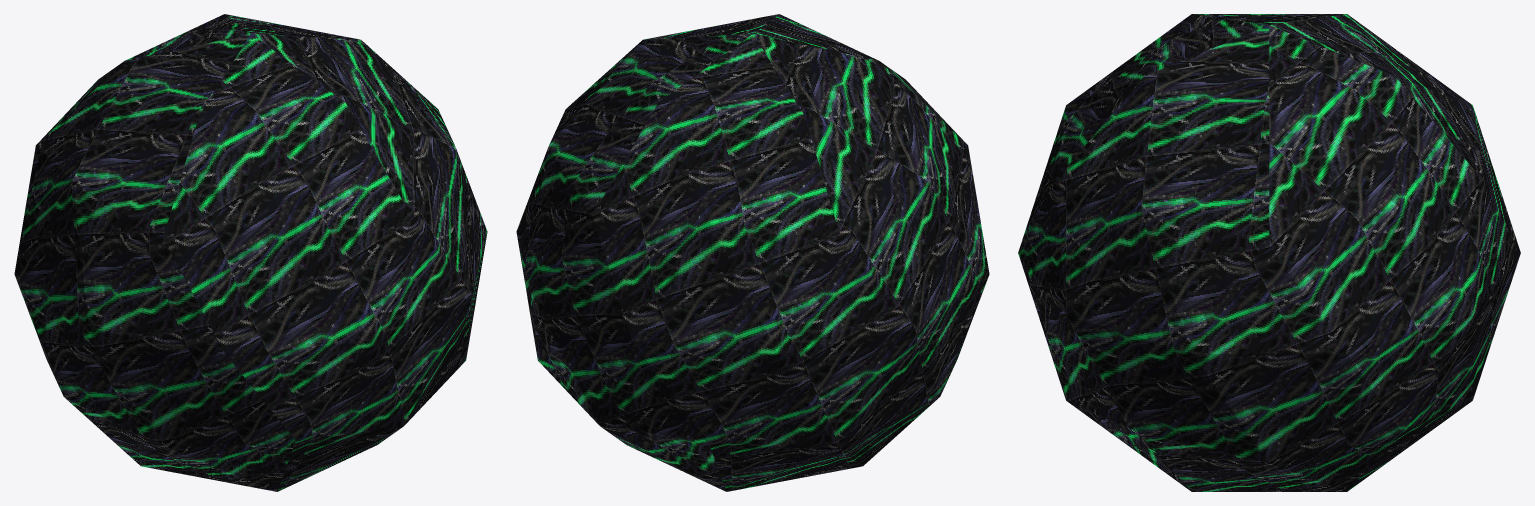
The picture shows the model from 3 angles, left to right: view 1: azimuth 30°, elevation 25°; view 2: azimuth 150°, elevation 25°; view 3: azimuth 270°, elevation 25°; orthographic projection. The views are drawn at different scales.
Visible parts, largest first — view 1: Icosphere; view 2: Icosphere; view 3: Icosphere.
Boxes of the visible parts, x1,y1,x2,y2 form: Icosphere: (14, 14, 487, 491); Icosphere: (516, 14, 989, 491); Icosphere: (1018, 14, 1520, 491).
Size of the model in its own units: 29.31 by 30.82 by 30.82.
12 materials, 12 textured.
